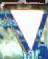Give way: (2, 0, 44, 58)
